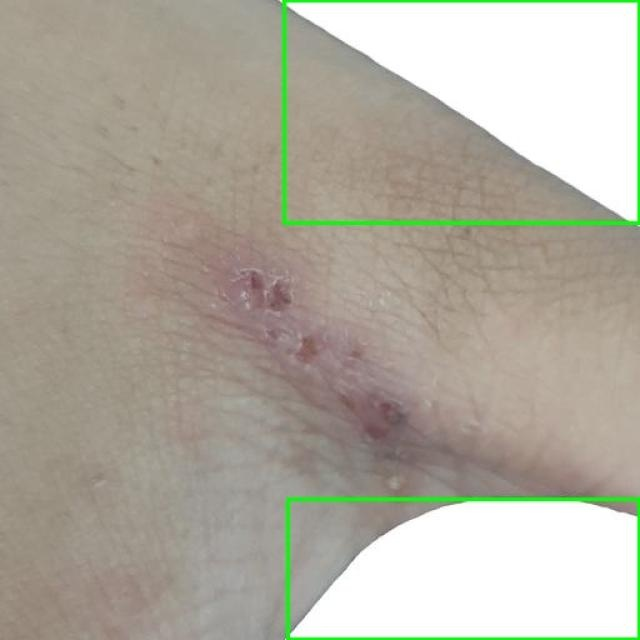Scabies: (284, 0, 639, 222), (288, 499, 639, 639)
